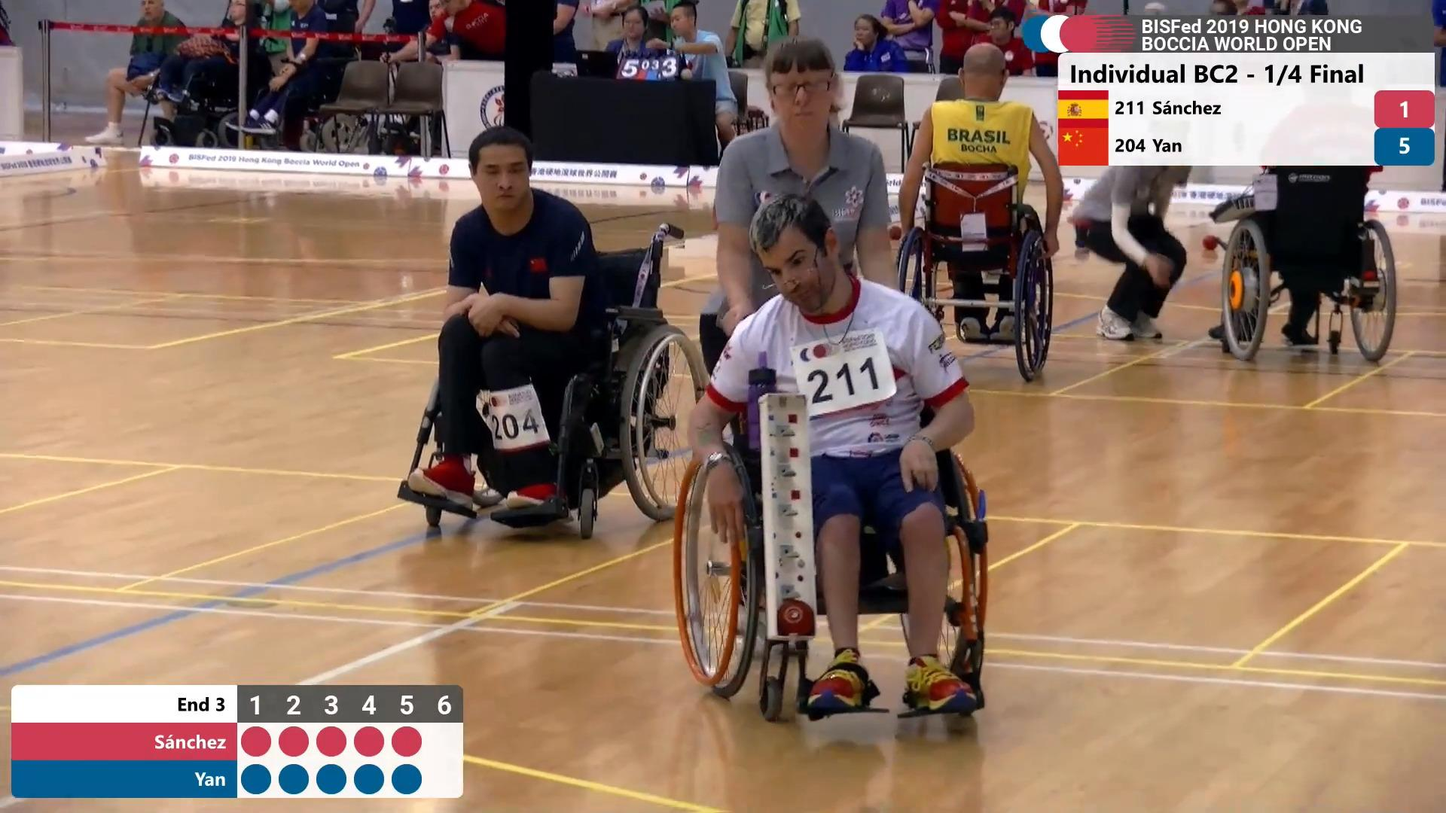red_ball: (774, 601, 813, 638), (1202, 234, 1220, 253)
